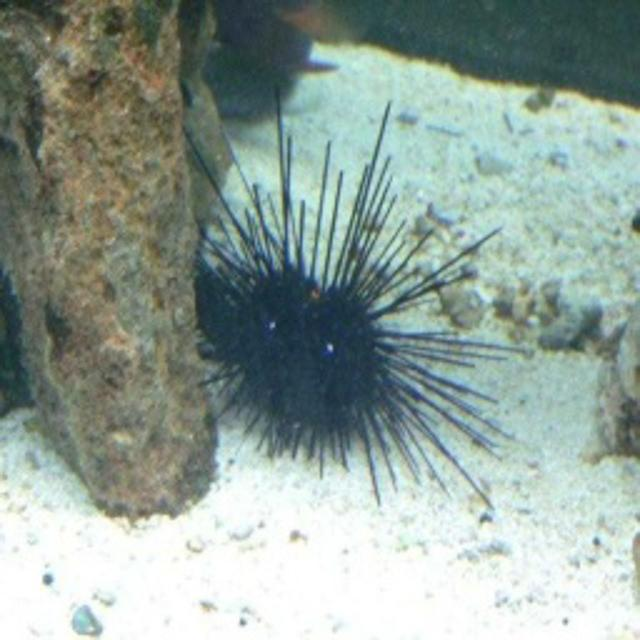Urchin: (163, 96, 545, 495)
